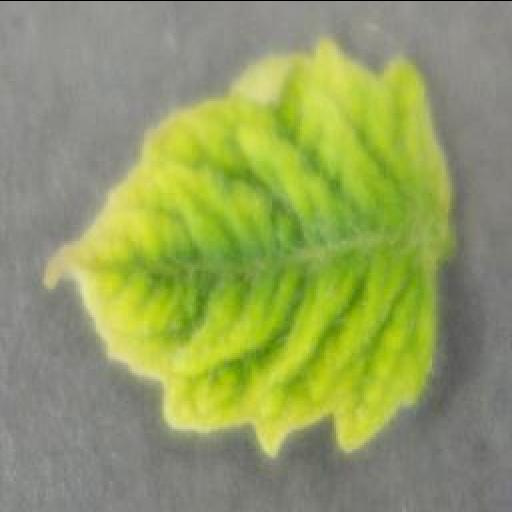disease_tomato: (41, 34, 451, 462)
